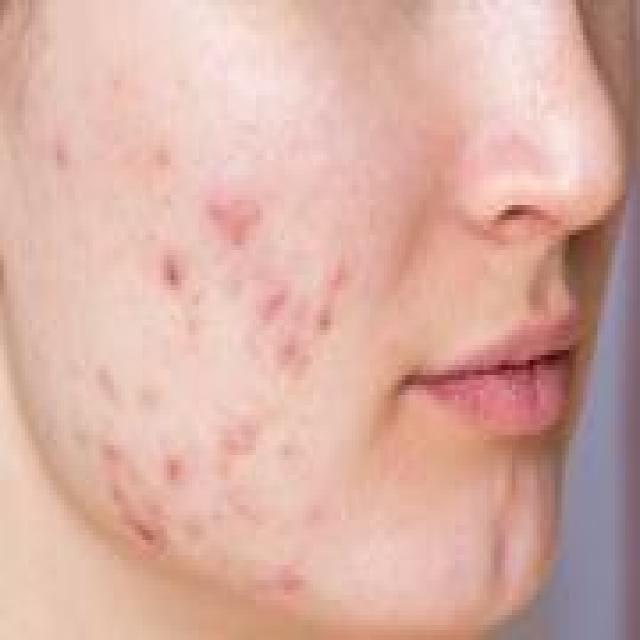blackheads: (309, 250, 352, 335), (210, 185, 260, 240), (217, 410, 259, 450), (125, 505, 164, 545), (249, 280, 281, 315), (277, 340, 313, 370), (156, 245, 182, 285), (92, 360, 118, 400), (96, 435, 121, 475), (160, 450, 185, 475), (53, 140, 71, 170), (153, 140, 174, 160)
